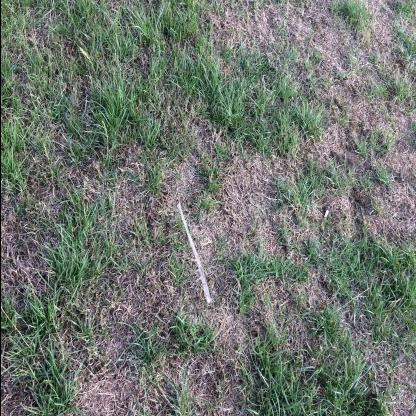plastik: (176, 202, 210, 304)
